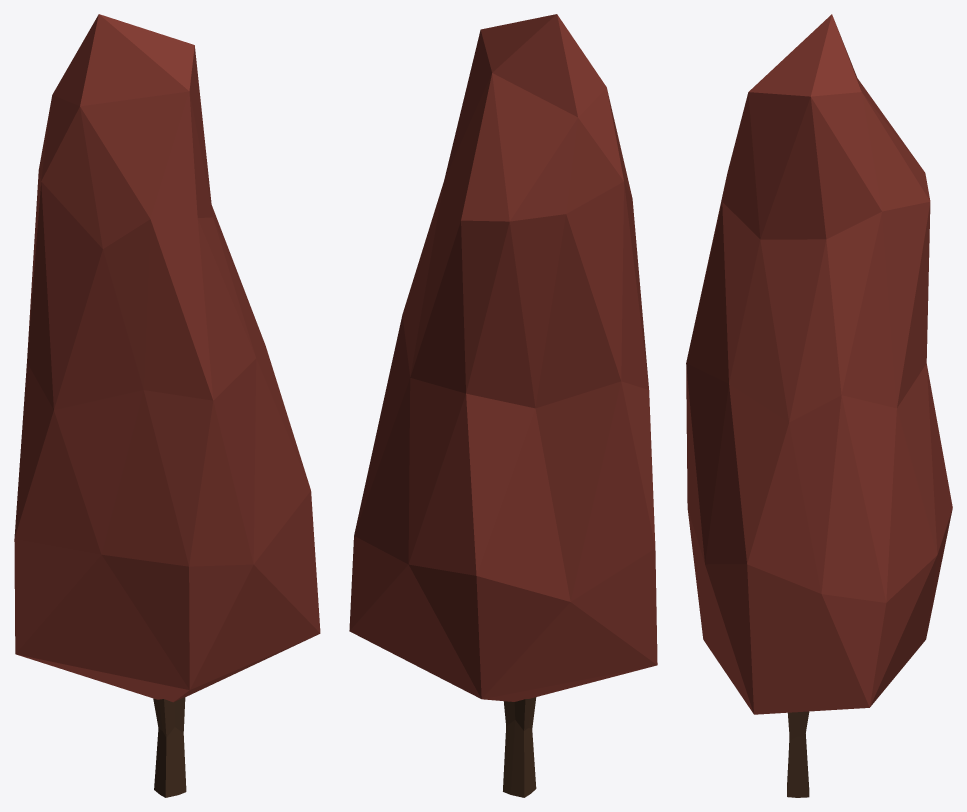
Rendered from Tree_4_Red.fbx.
The picture shows the model from 3 angles, left to right: view 1: azimuth 30°, elevation 25°; view 2: azimuth 150°, elevation 25°; view 3: azimuth 270°, elevation 25°; orthographic projection. The views are drawn at different scales.
Visible parts, largest first — view 1: Tree_4_Red_Part_1, Tree_4_Red_Part_2; view 2: Tree_4_Red_Part_1, Tree_4_Red_Part_2; view 3: Tree_4_Red_Part_1, Tree_4_Red_Part_2.
Boxes of the visible parts, box(x1,y1,x2,y2) form: Tree_4_Red_Part_1: box(14, 14, 320, 702); Tree_4_Red_Part_2: box(153, 697, 186, 797); Tree_4_Red_Part_1: box(349, 14, 657, 701); Tree_4_Red_Part_2: box(503, 697, 536, 797); Tree_4_Red_Part_1: box(686, 14, 952, 714); Tree_4_Red_Part_2: box(787, 711, 809, 797).
Size of the model in its own units: 295 by 795 by 254.
